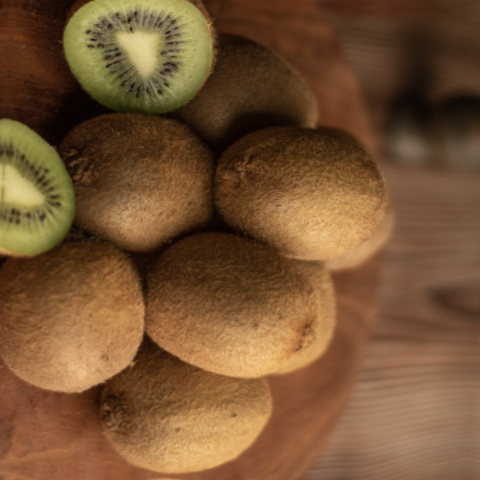kiwi: (146, 211, 330, 387), (0, 210, 152, 412), (45, 90, 224, 260), (216, 109, 401, 267), (79, 339, 278, 480)
